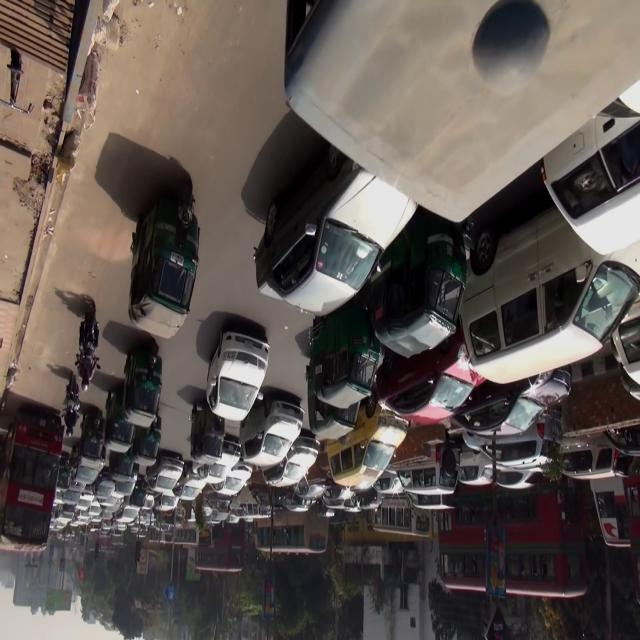black: (253, 144, 419, 319), (457, 369, 572, 444), (69, 444, 105, 483), (114, 464, 140, 496), (60, 480, 86, 502), (94, 471, 114, 499)
maroon: (376, 317, 487, 427)
silver: (462, 415, 558, 475), (263, 438, 316, 492), (143, 458, 185, 493), (213, 464, 256, 496)
white: (454, 225, 638, 369), (206, 327, 270, 423), (545, 426, 636, 481), (234, 396, 306, 463), (395, 444, 461, 502), (455, 438, 501, 490), (190, 448, 240, 483), (234, 482, 273, 520), (174, 468, 208, 503), (115, 499, 142, 525), (152, 487, 180, 512), (78, 489, 94, 512), (86, 499, 105, 517)
